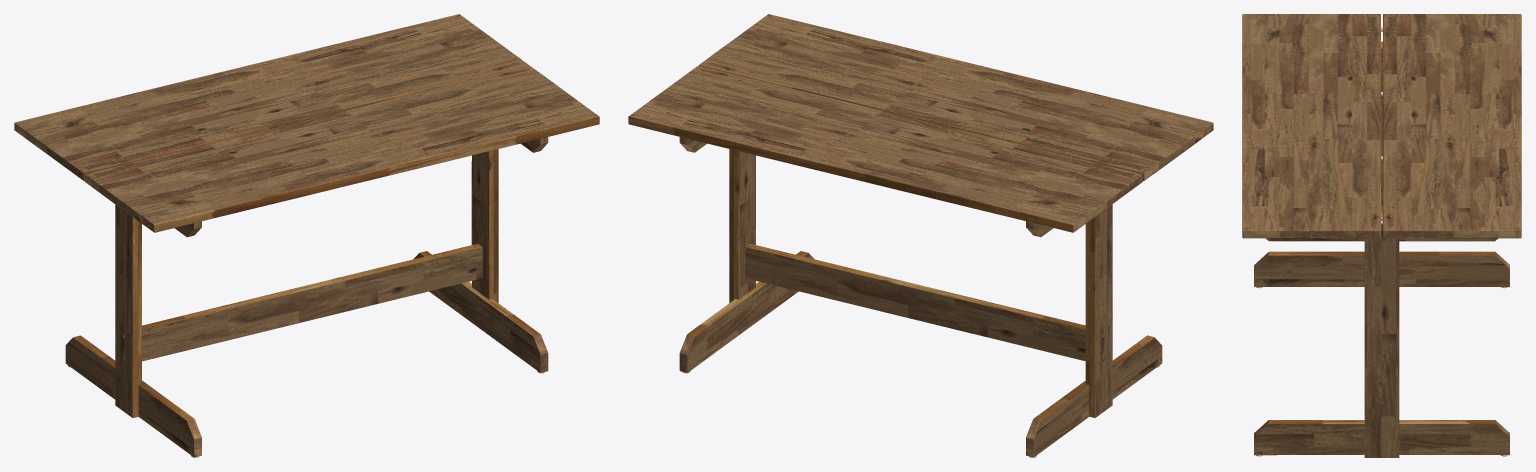
Rendered from NACKAN_S_40511056.glb.
The picture shows the model from 3 angles, left to right: view 1: azimuth 30°, elevation 25°; view 2: azimuth 150°, elevation 25°; view 3: azimuth 270°, elevation 25°; orthographic projection.
Parts seen in each view (by area): view 1: model; view 2: model; view 3: model.
Part boxes in pixels (left/top/right/bottom): model: left=14, top=14, right=599, bottom=457; model: left=628, top=14, right=1213, bottom=457; model: left=1242, top=14, right=1521, bottom=457.
Size of the model in its own units: 1.4 by 0.7501 by 0.7631.
1 material, 1 textured.
